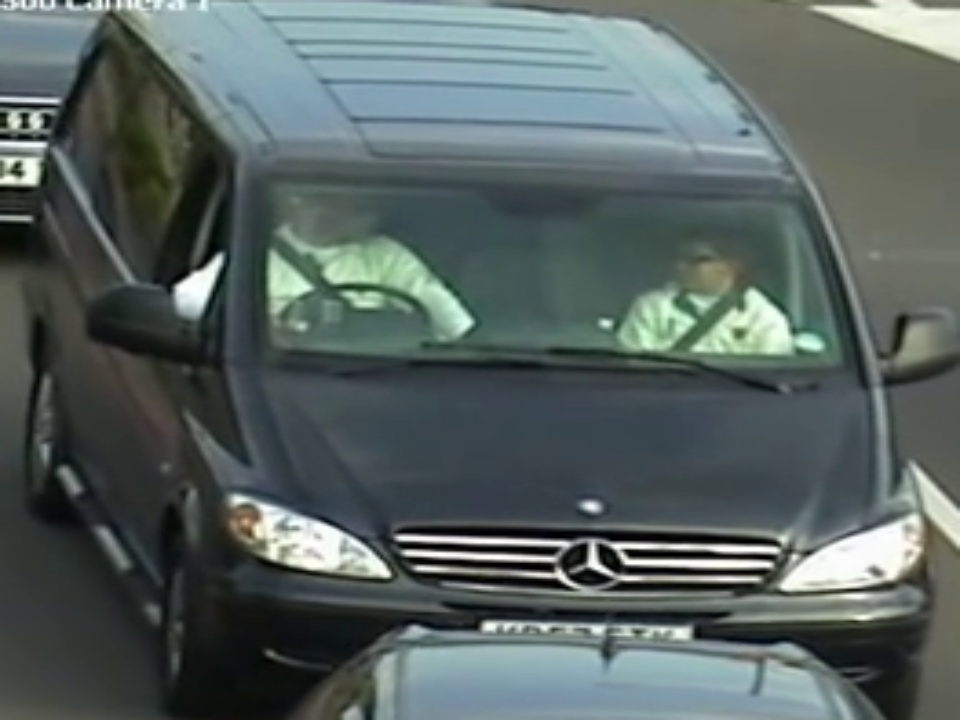TWO: (255, 174, 830, 364)
